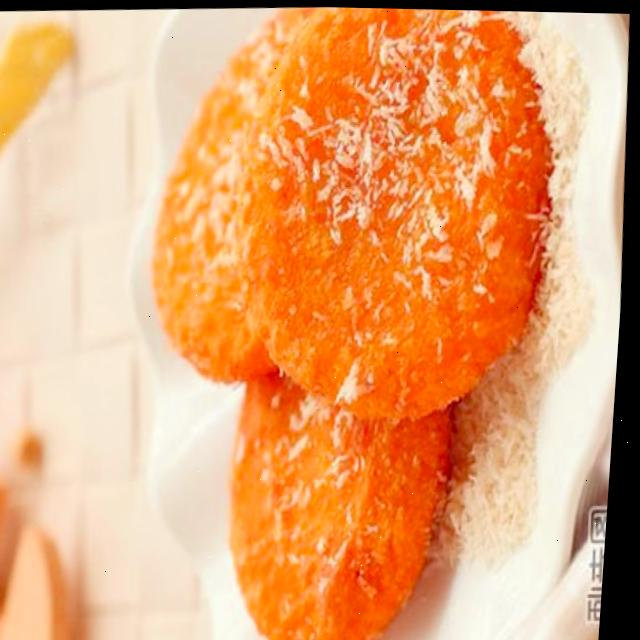炸货点心: (98, 2, 605, 640)
蛋糕甜品: (98, 2, 605, 640)
